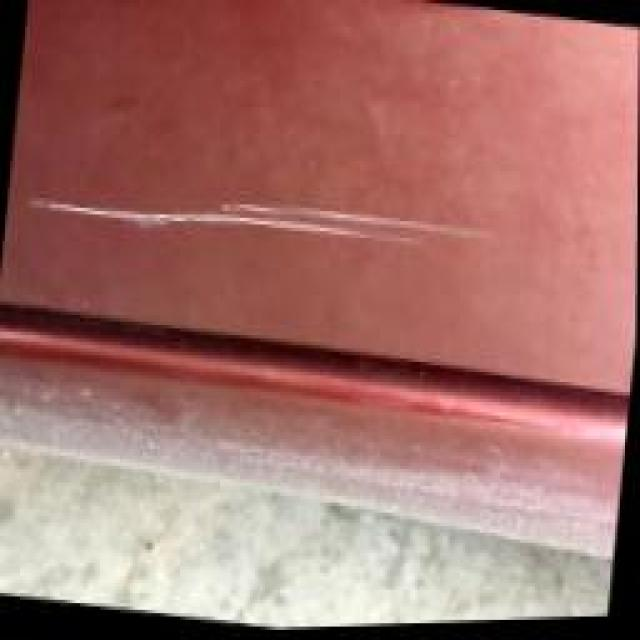Door: (12, 121, 509, 337)
